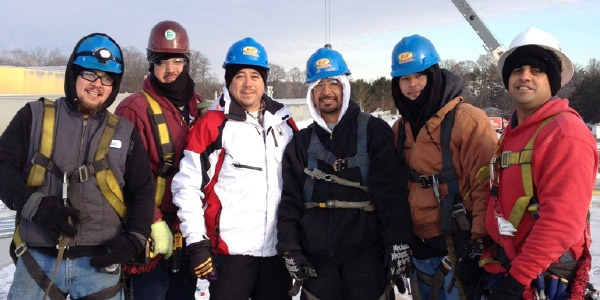blue: (66, 31, 123, 112), (221, 35, 270, 109), (389, 33, 437, 103), (306, 45, 348, 114)
red: (143, 17, 191, 88)
white: (500, 29, 563, 111)
